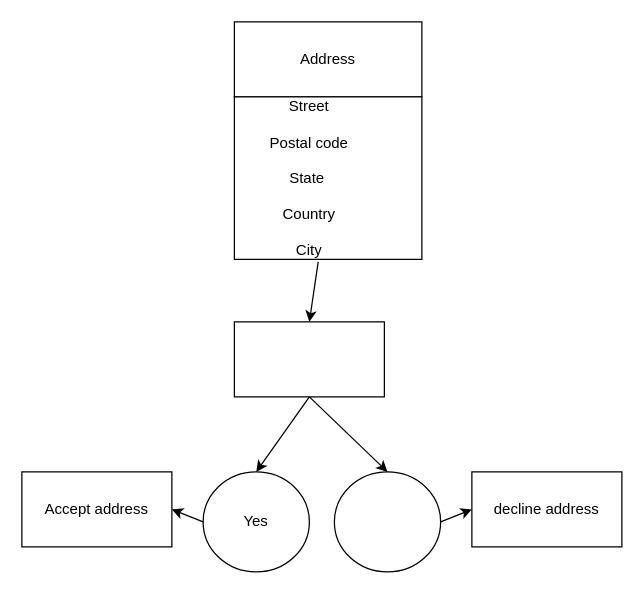
Image size: 644x594. Some labels were removed from this diagram. The shapes that lost their labels are listed below. From the top down, each one's box as (x1, y1, x2, y2) in pixels, then its label:
(233, 321, 384, 397): Confirm address
(333, 471, 441, 572): No
